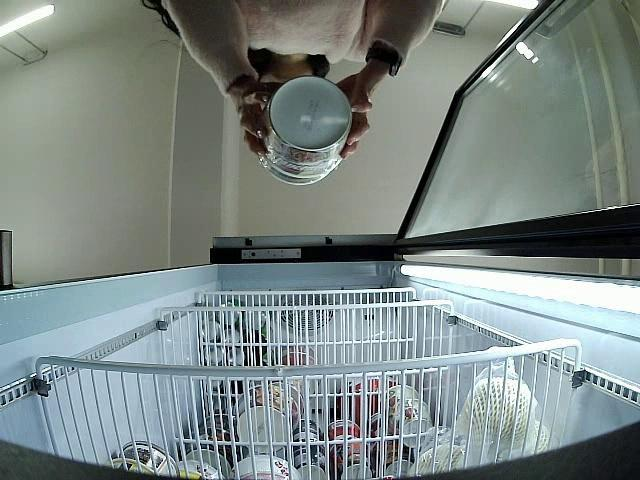03_chapagetti_L: (256, 74, 353, 178)
